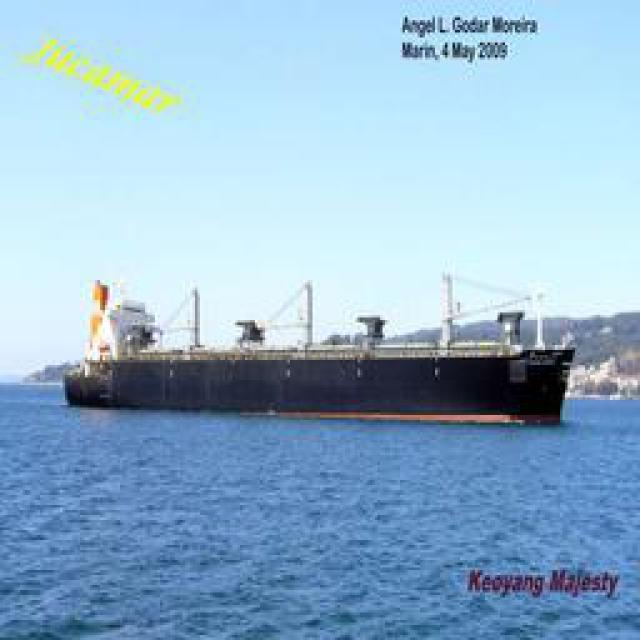Ship: (81, 302, 576, 422)
